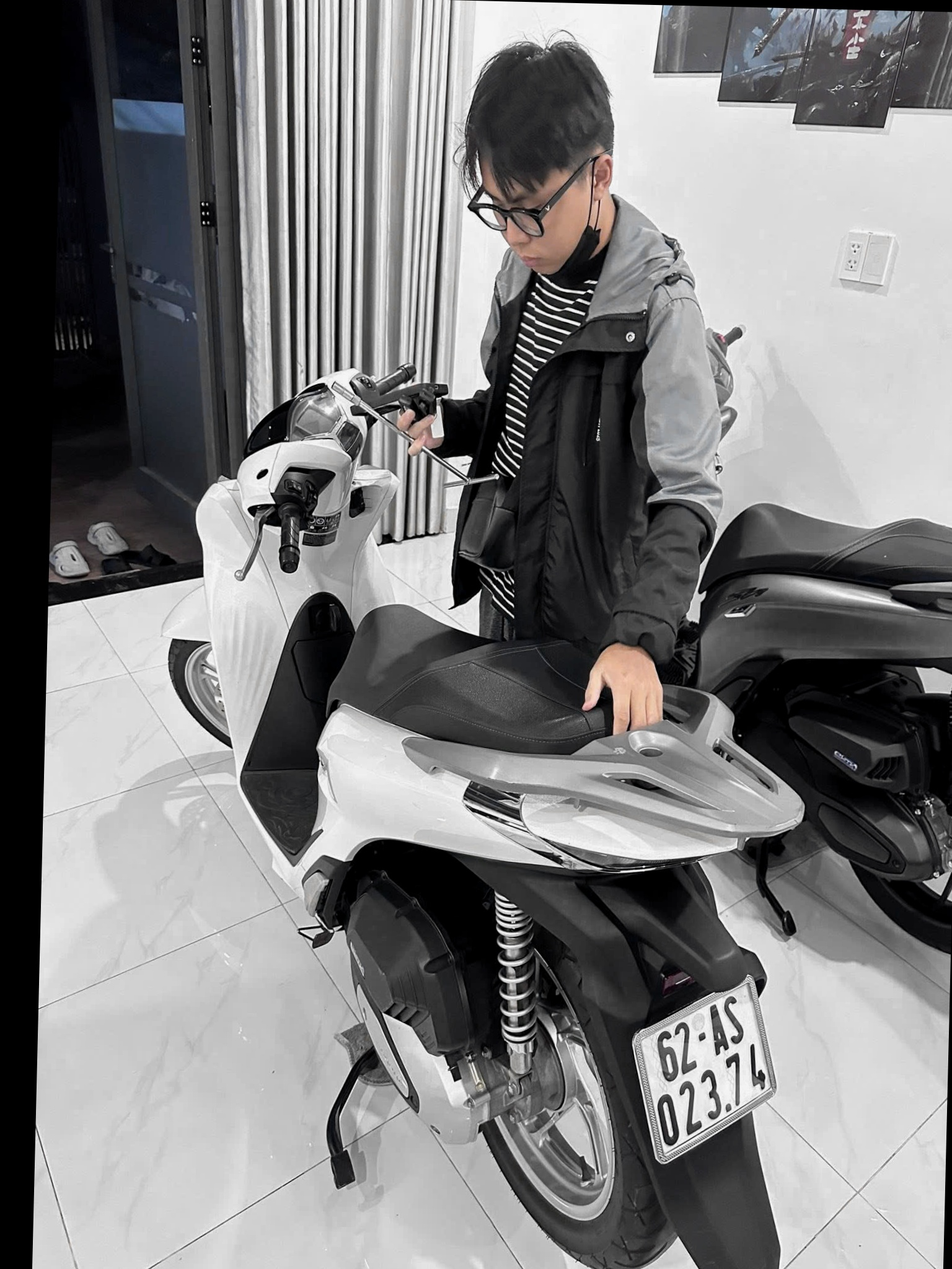Bien-so: (632, 980, 787, 1168)
